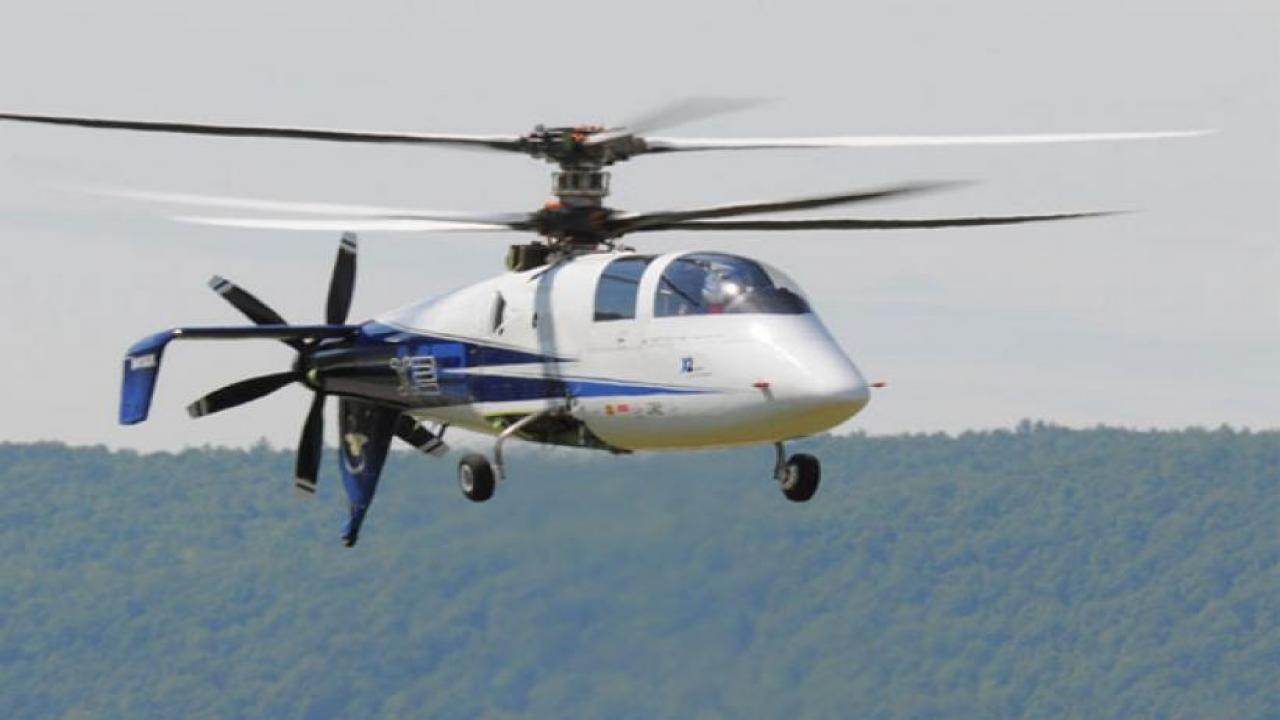Helicopter: (0, 75, 1226, 567)
